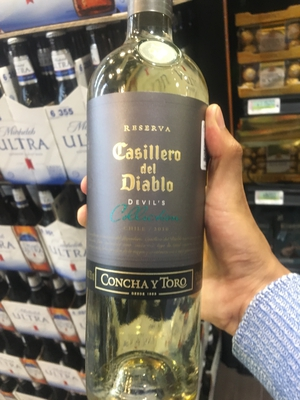casillero del diablo devils collection verde: (78, 2, 221, 388)
